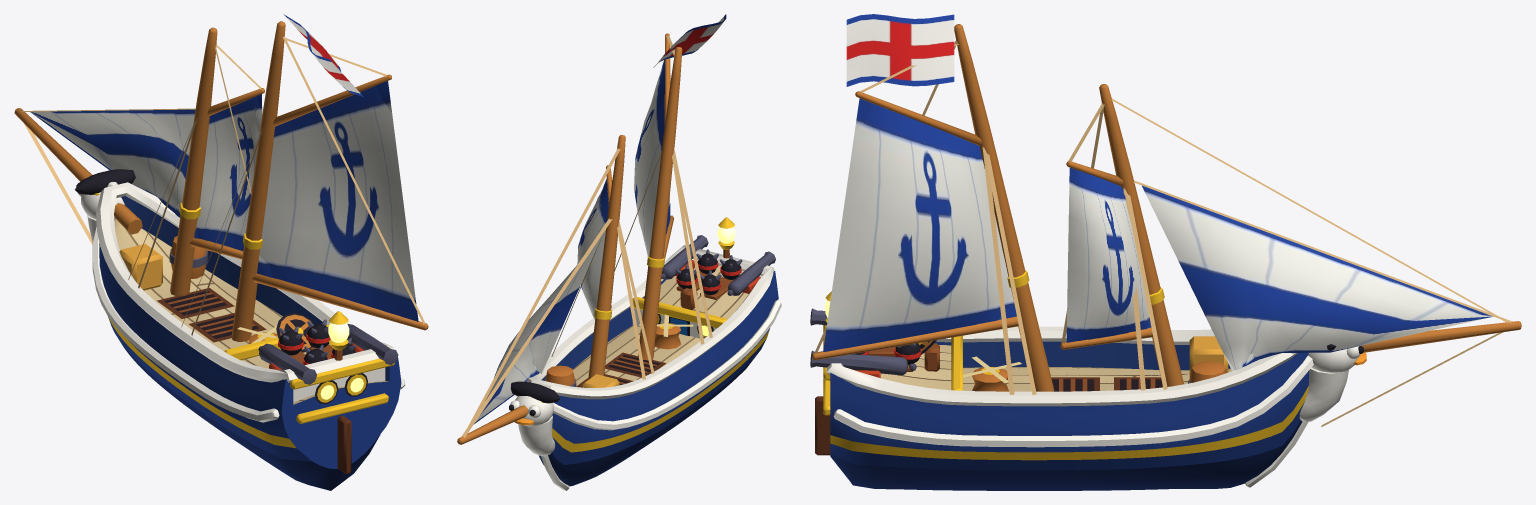
The model's file is navy_runner.glb.
3 renders of one model, left to right at view 1: azimuth 30°, elevation 25°; view 2: azimuth 150°, elevation 25°; view 3: azimuth 270°, elevation 25°, orthographic. The views are drawn at different scales.
Visible parts, largest first — view 1: Hull, Sail1_0, Rigging, Jib, Sail0_0, Guns0, Flag; view 2: Hull, Rigging, Jib, Sail1_0, Sail0_0, Guns0, Flag; view 3: Hull, Sail1_0, Jib, Rigging, Sail0_0, Flag, Guns0.
Part boxes in pixels (bbox=[...]): Hull: bbox=[75, 169, 405, 490]; Sail1_0: bbox=[257, 81, 418, 321]; Rigging: bbox=[14, 21, 428, 341]; Jib: bbox=[30, 109, 195, 217]; Sail0_0: bbox=[194, 94, 262, 251]; Guns0: bbox=[258, 323, 398, 384]; Flag: bbox=[283, 14, 363, 96]; Hull: bbox=[509, 217, 781, 490]; Rigging: bbox=[457, 33, 712, 444]; Jib: bbox=[474, 233, 603, 423]; Sail1_0: bbox=[634, 59, 670, 256]; Sail0_0: bbox=[577, 178, 608, 320]; Guns0: bbox=[661, 235, 775, 295]; Flag: bbox=[653, 14, 726, 67]; Hull: bbox=[815, 291, 1366, 490]; Sail1_0: bbox=[823, 98, 1016, 351]; Jib: bbox=[1142, 185, 1493, 370]; Rigging: bbox=[812, 24, 1521, 426]; Sail0_0: bbox=[1066, 168, 1151, 342]; Flag: bbox=[846, 14, 954, 86]; Guns0: bbox=[810, 308, 916, 377].
Size of the model in its own units: 0.7037 by 1.91 by 2.59.
8 materials, 4 textured.
